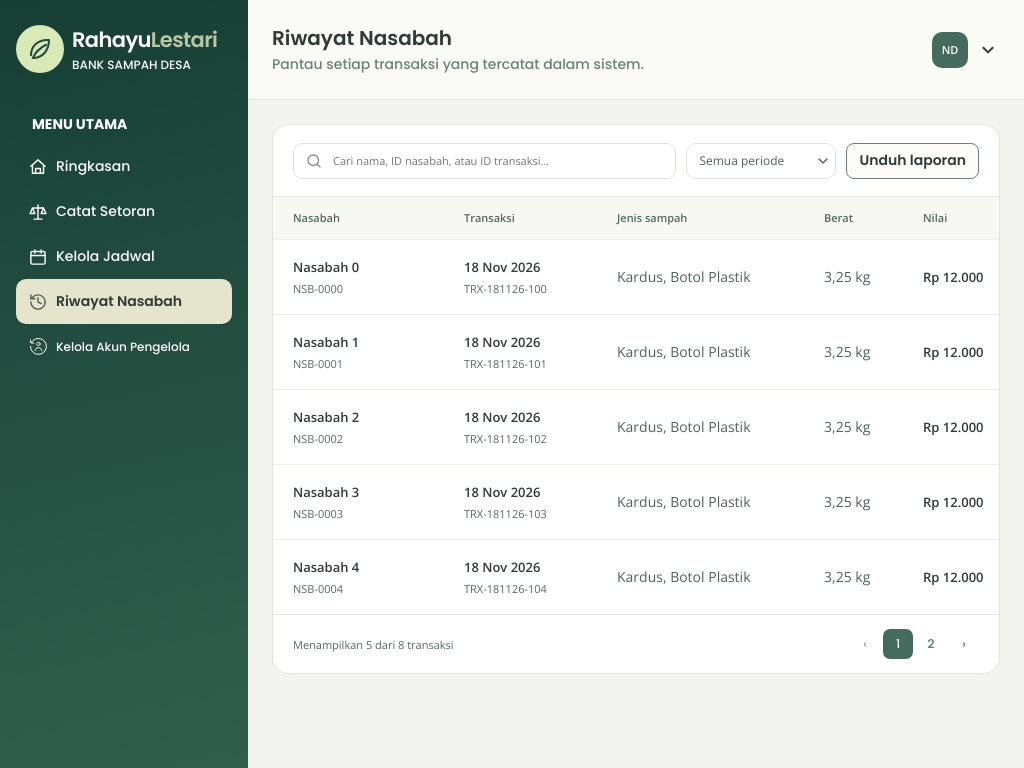
Scenario: Riwayat Nasabah › debounces and aborts an old search before it can replace new results
Type "old" into the search field at (485, 160), box 293,142 -> 676,178
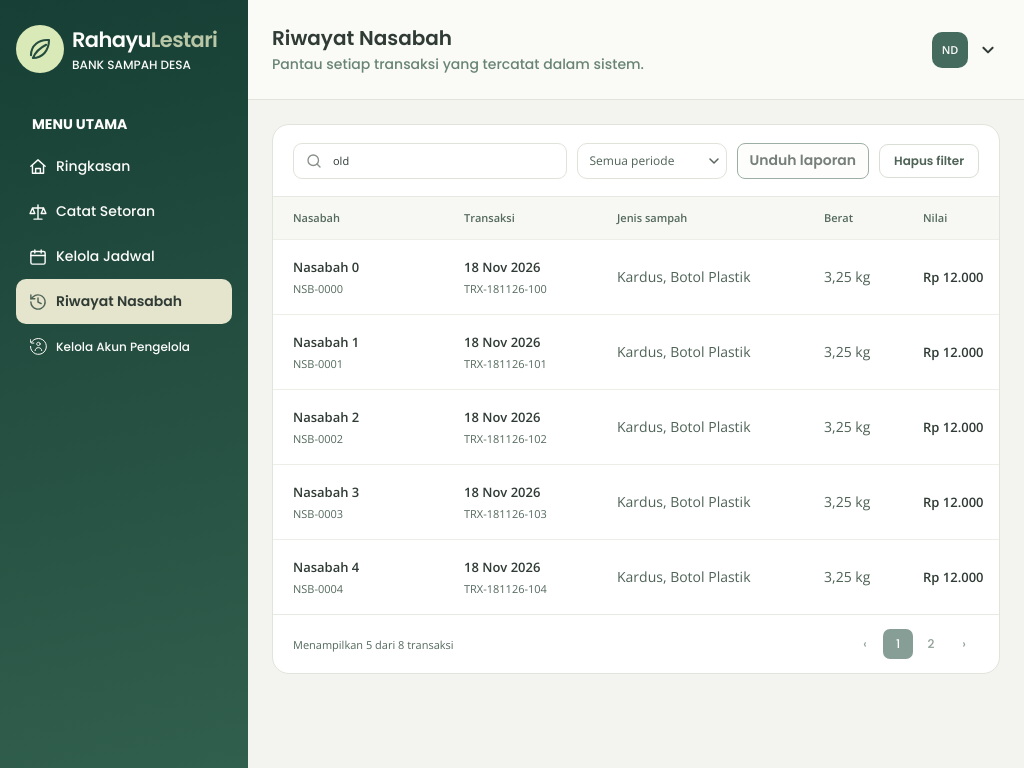
Replace the text in the search field with "Nasabah 7" at (430, 160), box 293,142 -> 566,178
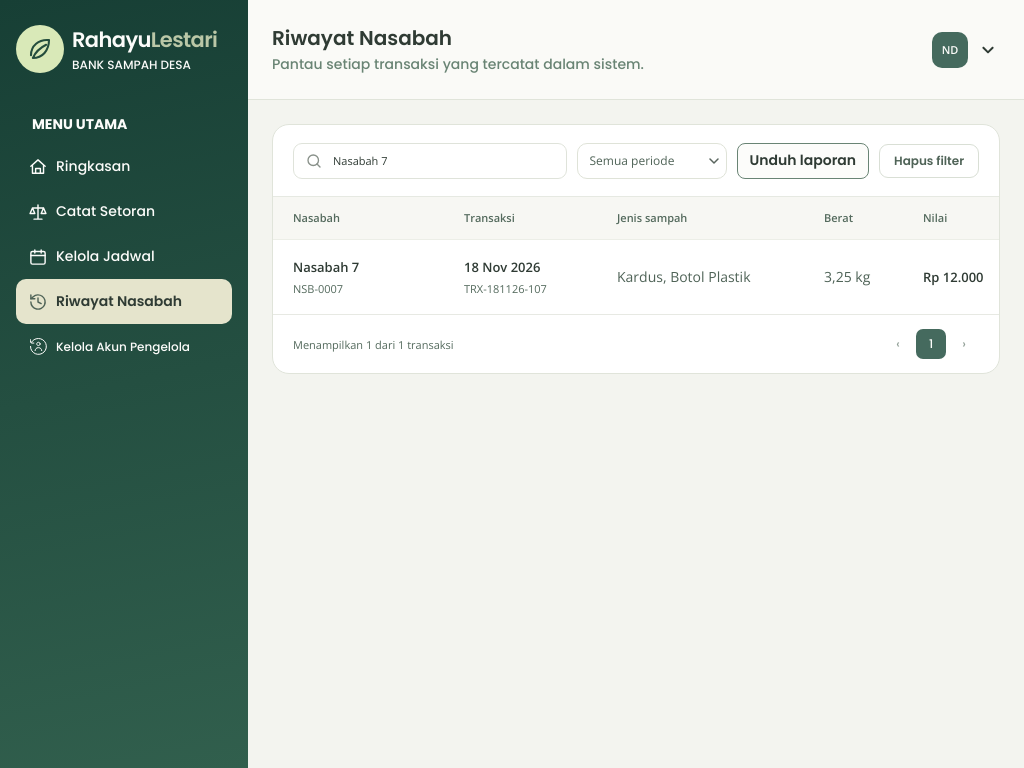
expect the text "Menampilkan 1 dari 1 transaksi" is shown: met, box 293,336 -> 454,352
expect the text "Nasabah 7" is shown: met, box 293,258 -> 359,276
